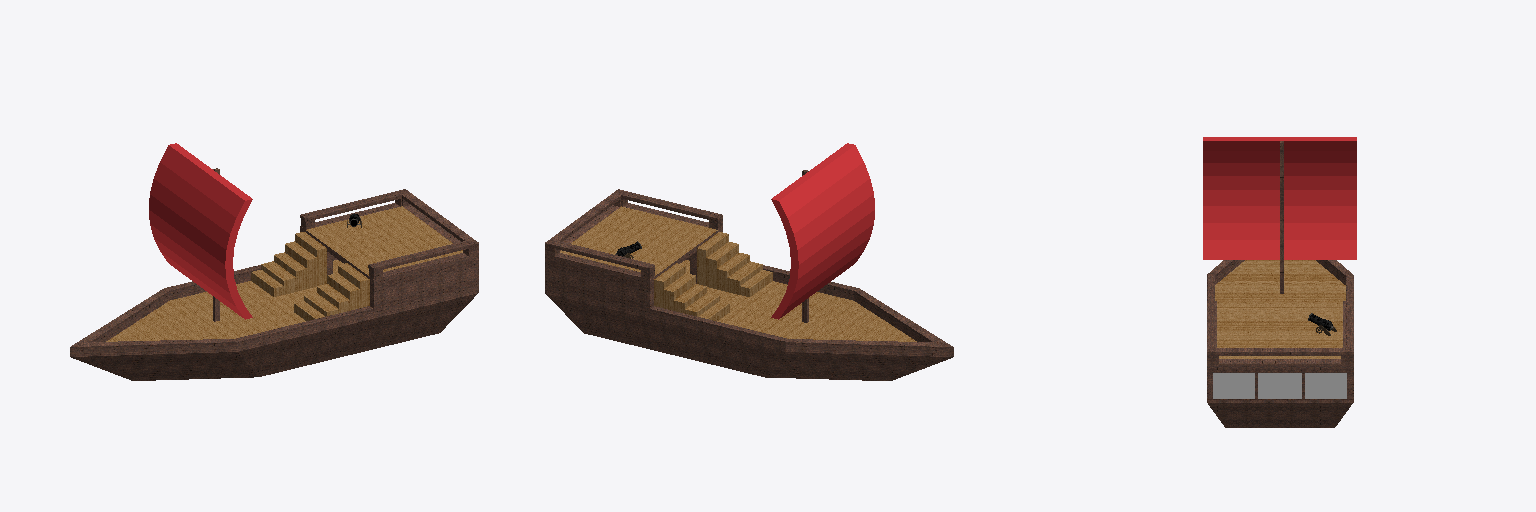
3 renders of one model, left to right at view 1: azimuth 30°, elevation 25°; view 2: azimuth 150°, elevation 25°; view 3: azimuth 270°, elevation 25°, orthographic.
Visible parts, largest first — view 1: redboat; view 2: redboat; view 3: redboat.
Boxes of the visible parts, x1=… form: redboat: x1=70, y1=143, x2=478, y2=380; redboat: x1=545, y1=143, x2=953, y2=380; redboat: x1=1203, y1=137, x2=1356, y2=427.
Bounding box in the file's own units: 32.79 × 16.04 × 11.67.
5 materials, 4 textured.